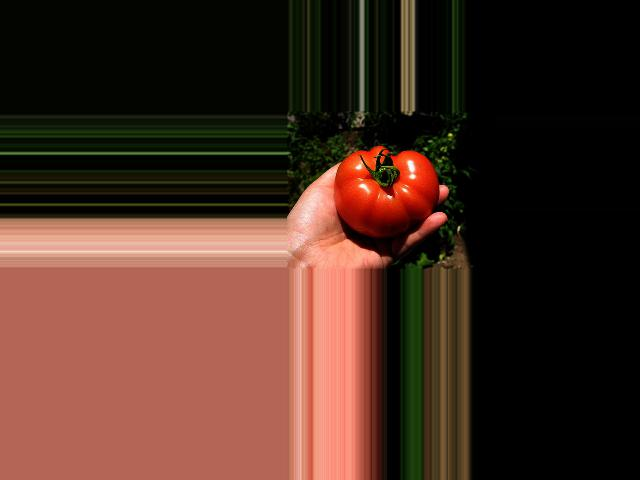tomato: (335, 146, 439, 237)
